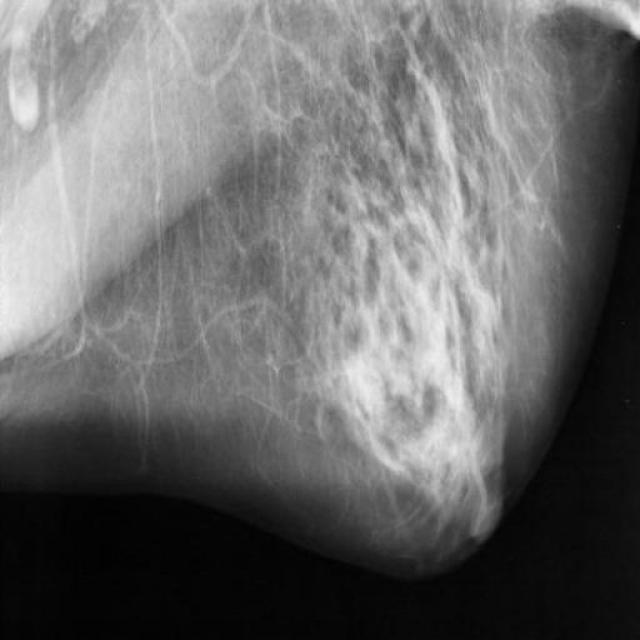cancer: (288, 323, 342, 452)
